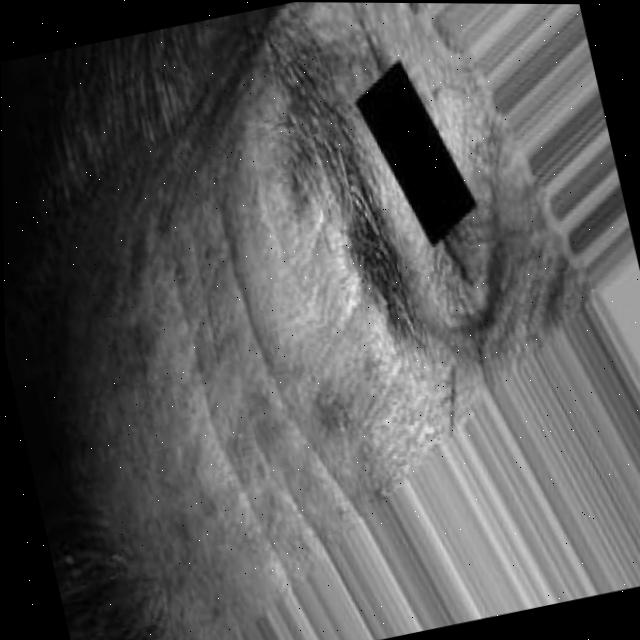Rosacea: (306, 362, 409, 484)
